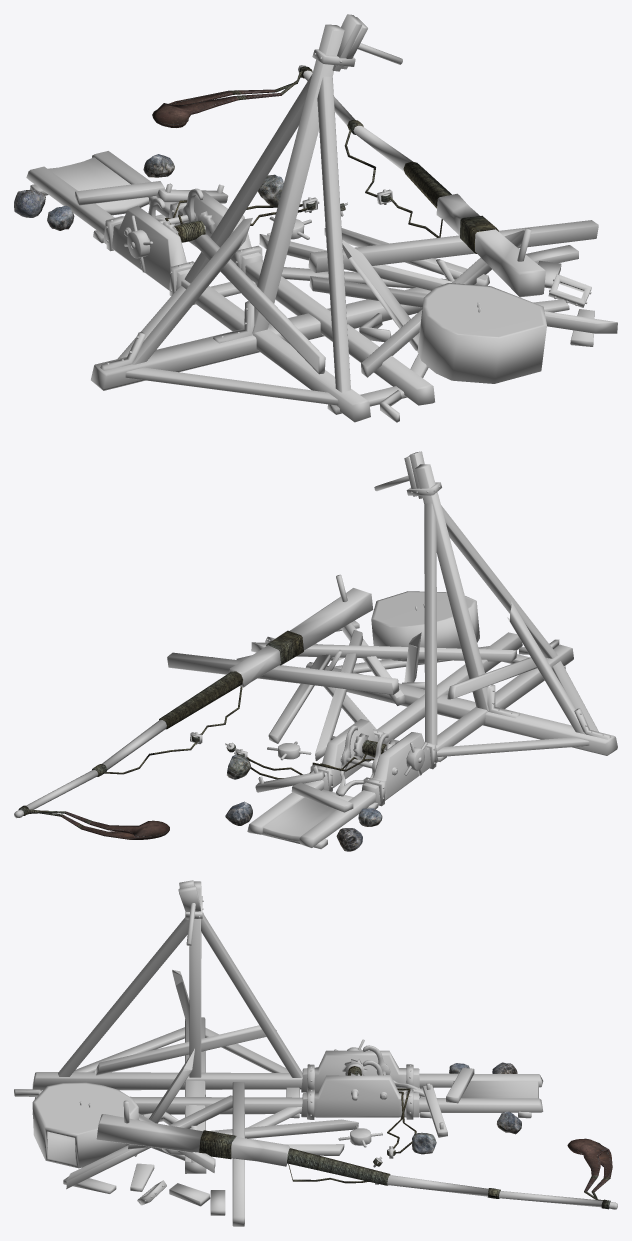
The model's file is Broken_Trebushet.FBX.
3 renders of one model, top to bottom at view 1: azimuth 30°, elevation 25°; view 2: azimuth 150°, elevation 25°; view 3: azimuth 270°, elevation 25°, orthographic. The views are drawn at different scales.
Visible parts, largest first — view 1: Medieval_Trebushet_brocken, TR_Rock_05, TR_Rock_06, TR_Rock_07; view 2: Medieval_Trebushet_brocken; view 3: Medieval_Trebushet_brocken.
Boxes of the visible parts, x1=… form: Medieval_Trebushet_brocken: x1=26, y1=14, x2=617, y2=422; TR_Rock_05: x1=14, y1=189, x2=45, y2=217; TR_Rock_06: x1=143, y1=154, x2=174, y2=177; TR_Rock_07: x1=258, y1=174, x2=283, y2=205; Medieval_Trebushet_brocken: x1=14, y1=451, x2=617, y2=848; Medieval_Trebushet_brocken: x1=14, y1=880, x2=617, y2=1226.
Size of the model in its own units: 1507 by 907 by 1925.
